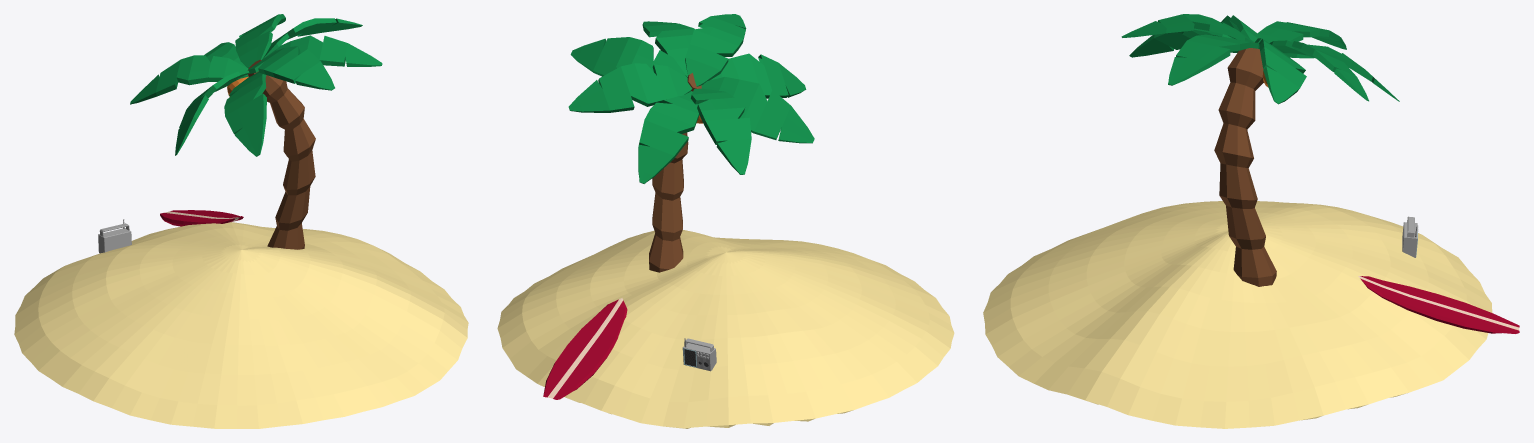
The model's file is island.glb.
3 renders of one model, left to right at view 1: azimuth 30°, elevation 25°; view 2: azimuth 150°, elevation 25°; view 3: azimuth 270°, elevation 25°, orthographic. The views are drawn at different scales.
Parts seen in each view (by area): view 1: Island, PalmTree, Surfboard, Radio; view 2: Island, PalmTree, Surfboard, Radio; view 3: Island, PalmTree, Surfboard, Radio.
Boxes of the visible parts, x1,y1,x2,y2 form: Island: (14, 222, 468, 428); PalmTree: (130, 14, 382, 249); Surfboard: (160, 210, 243, 226); Radio: (98, 219, 131, 253); Island: (497, 230, 954, 428); PalmTree: (568, 14, 814, 272); Surfboard: (543, 298, 627, 399); Radio: (682, 338, 716, 371); Island: (983, 201, 1492, 428); PalmTree: (1121, 14, 1399, 286); Surfboard: (1358, 276, 1519, 333); Radio: (1402, 216, 1418, 257).
Bounding box in the file's own units: 3.2 × 2.32 × 3.36.
